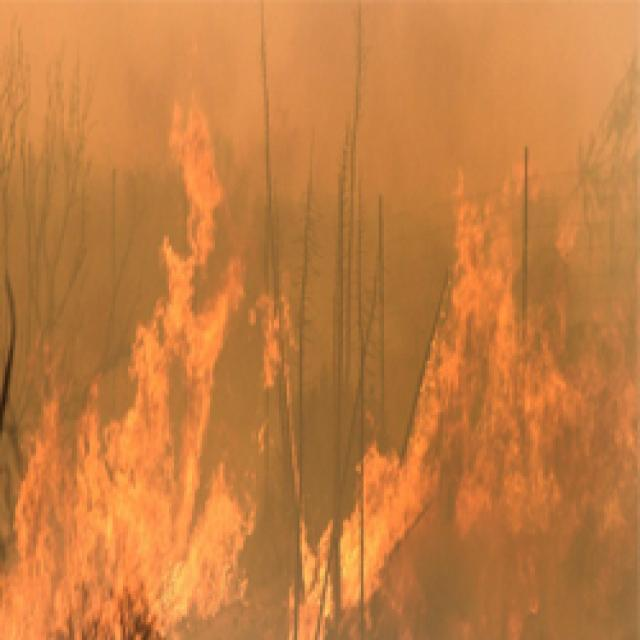Fire: (294, 171, 639, 640), (0, 96, 295, 631)
Smoke: (148, 0, 639, 97), (0, 0, 151, 305), (286, 92, 418, 410), (415, 88, 640, 172)
